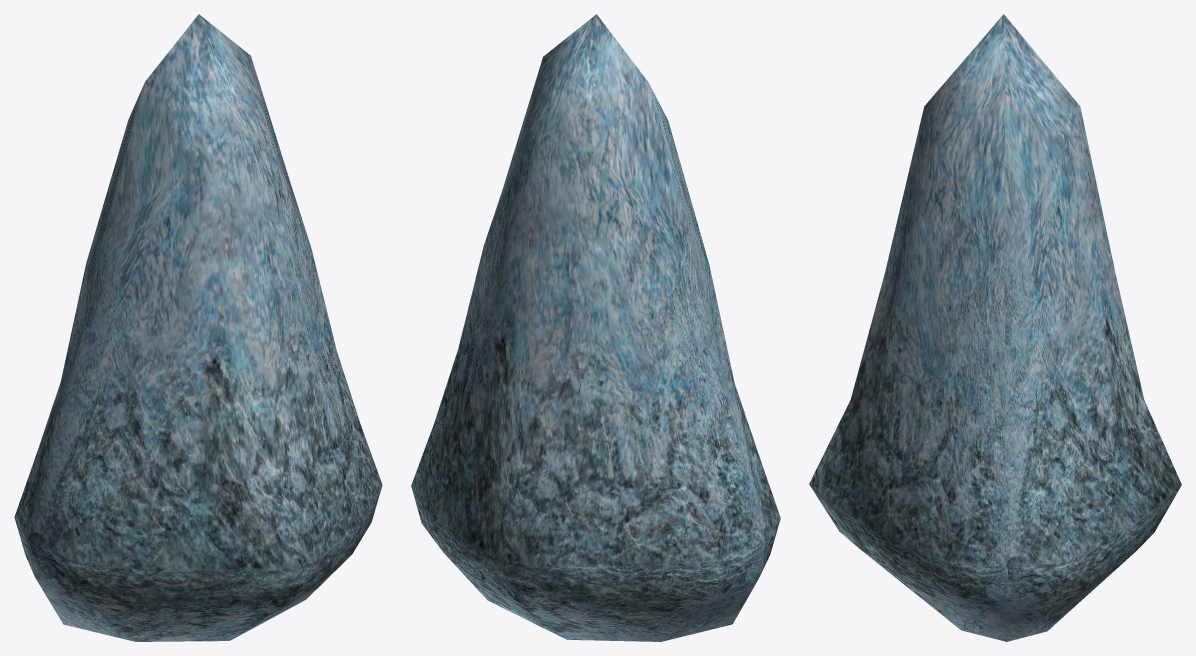
The model's file is thm_all_cave_stalagmite_ice_a1_l0.fbx.
3 renders of one model, left to right at view 1: azimuth 30°, elevation 25°; view 2: azimuth 150°, elevation 25°; view 3: azimuth 270°, elevation 25°, orthographic. The views are drawn at different scales.
Parts seen in each view (by area): view 1: mesh_node; view 2: mesh_node; view 3: mesh_node.
Boxes of the visible parts, x1=… form: mesh_node: x1=14, y1=14, x2=382, y2=641; mesh_node: x1=411, y1=14, x2=780, y2=641; mesh_node: x1=809, y1=14, x2=1181, y2=641.
Bounding box in the file's own units: 1.1 × 1.9 × 1.07.
